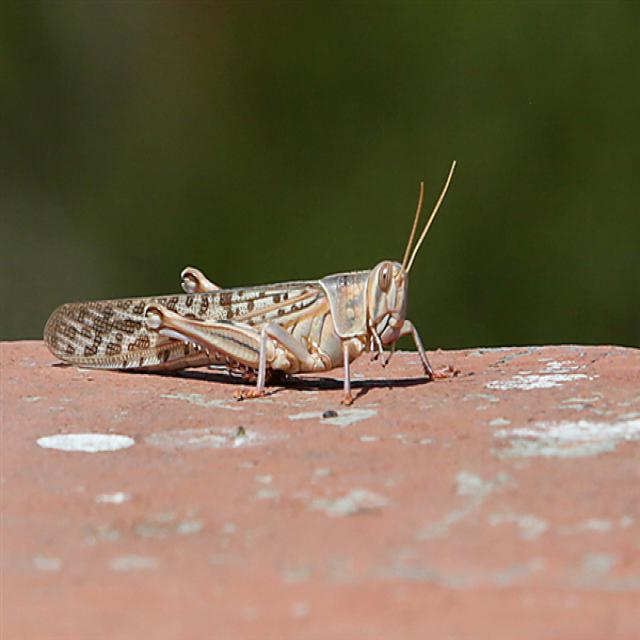ZhaMeng: (33, 218, 481, 415)
